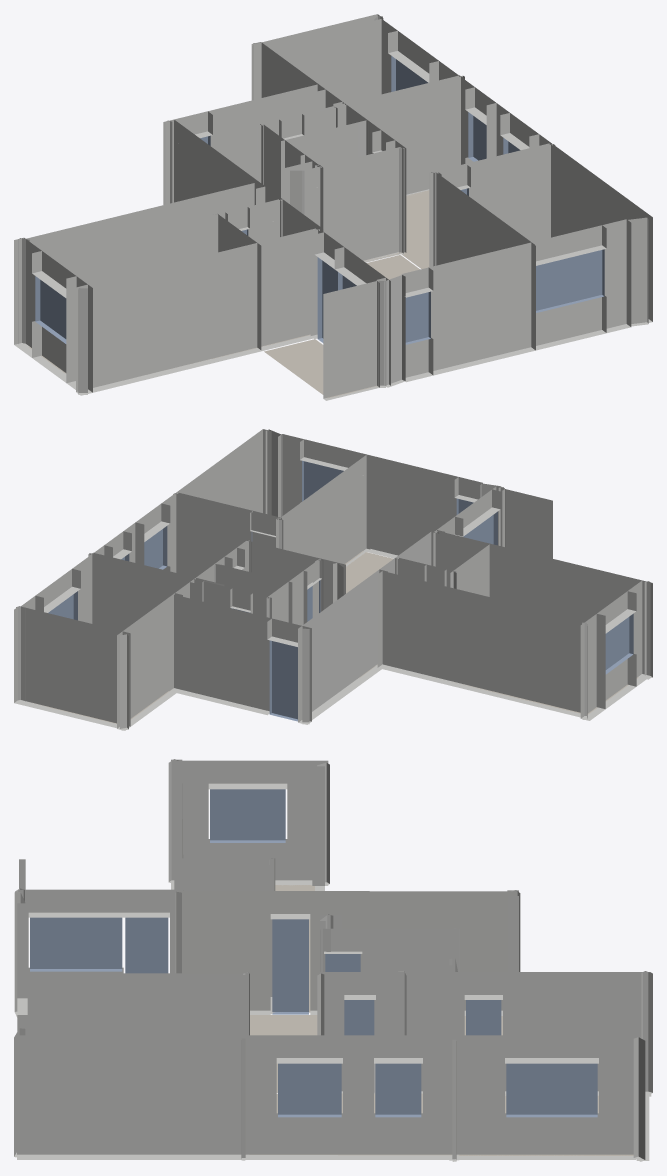
The model's file is plan2scene_vector_house.glb.
The picture shows the model from 3 angles, top to bottom: view 1: azimuth 30°, elevation 25°; view 2: azimuth 150°, elevation 25°; view 3: azimuth 270°, elevation 25°; orthographic projection. The views are drawn at different scales.
Visible parts, largest first — view 1: walls, doors_windows, floor; view 2: walls, doors_windows, floor; view 3: walls, doors_windows, floor.
Boxes of the visible parts, x1=… form: walls: x1=14, y1=14, x2=652, y2=400; doors_windows: x1=35, y1=56, x2=604, y2=344; floor: x1=29, y1=190, x2=429, y2=398; walls: x1=14, y1=429, x2=652, y2=730; doors_windows: x1=48, y1=460, x2=633, y2=721; floor: x1=29, y1=551, x2=638, y2=723; walls: x1=14, y1=759, x2=652, y2=1161; doors_windows: x1=30, y1=789, x2=597, y2=1117; floor: x1=249, y1=885, x2=633, y2=1155.
Bounding box in the file's own units: 1322 × 260 × 1260.
